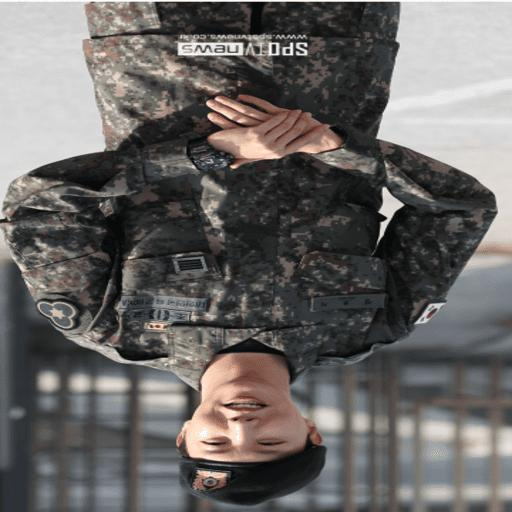korea army: (4, 0, 501, 499)
